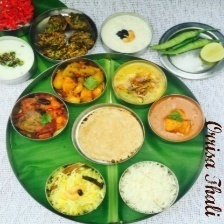sabzi: (147, 94, 206, 144)
